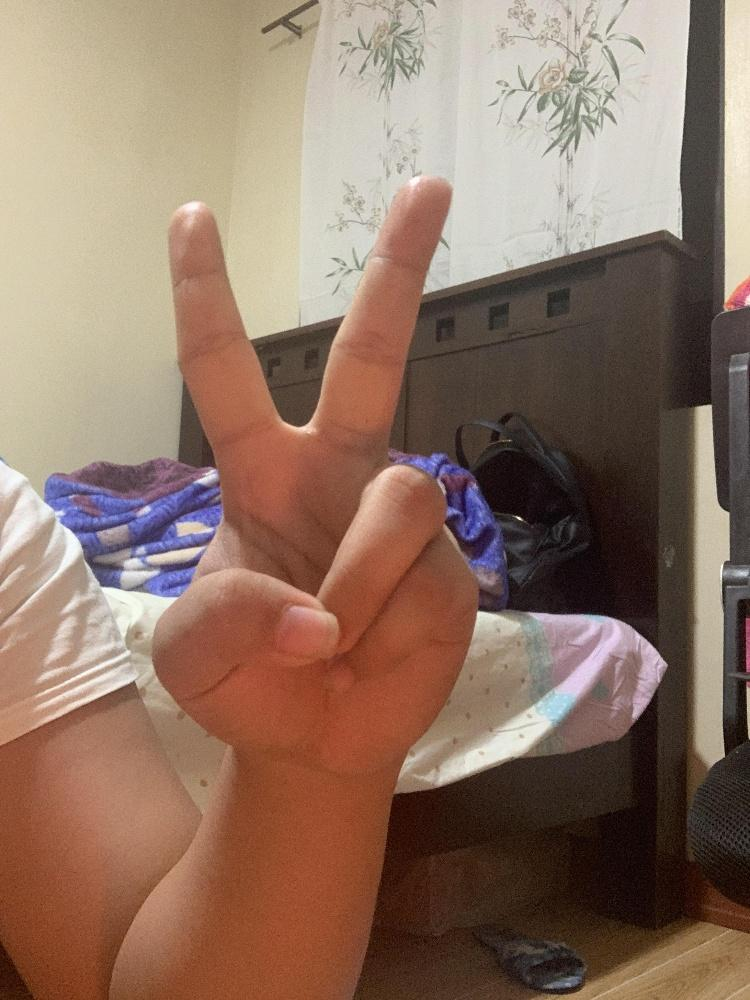v: (146, 172, 481, 778)
